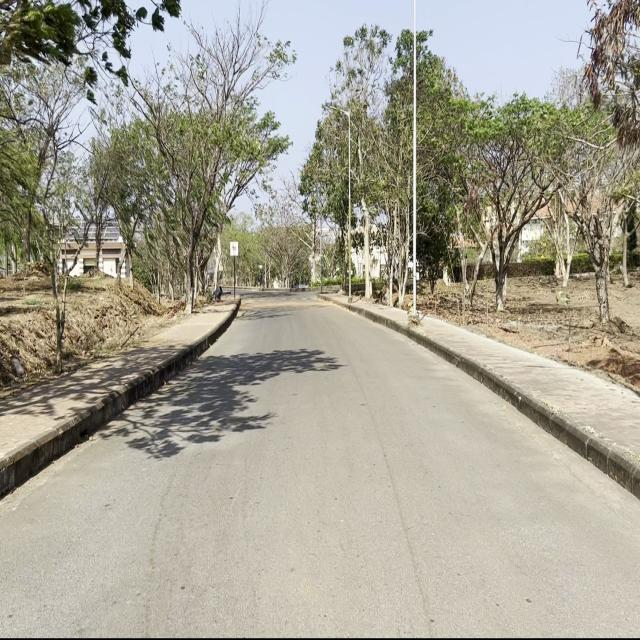Road: (4, 289, 638, 634)
